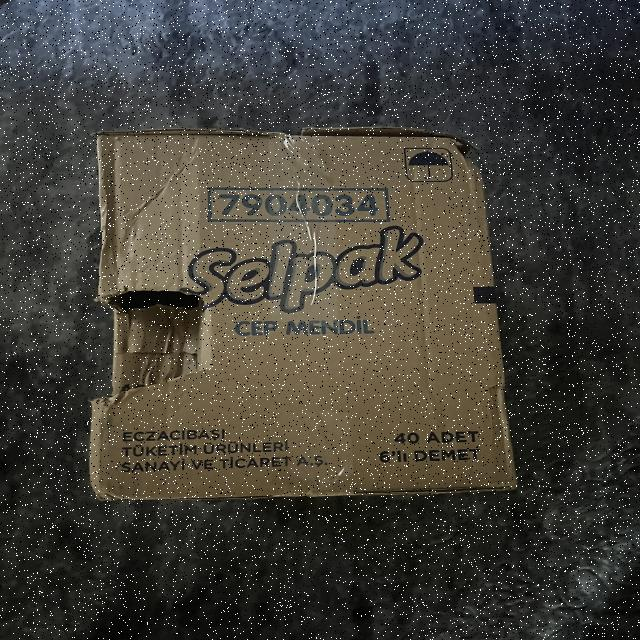damaged: (93, 124, 525, 498), (82, 279, 228, 422), (89, 187, 140, 277), (432, 122, 480, 191)
